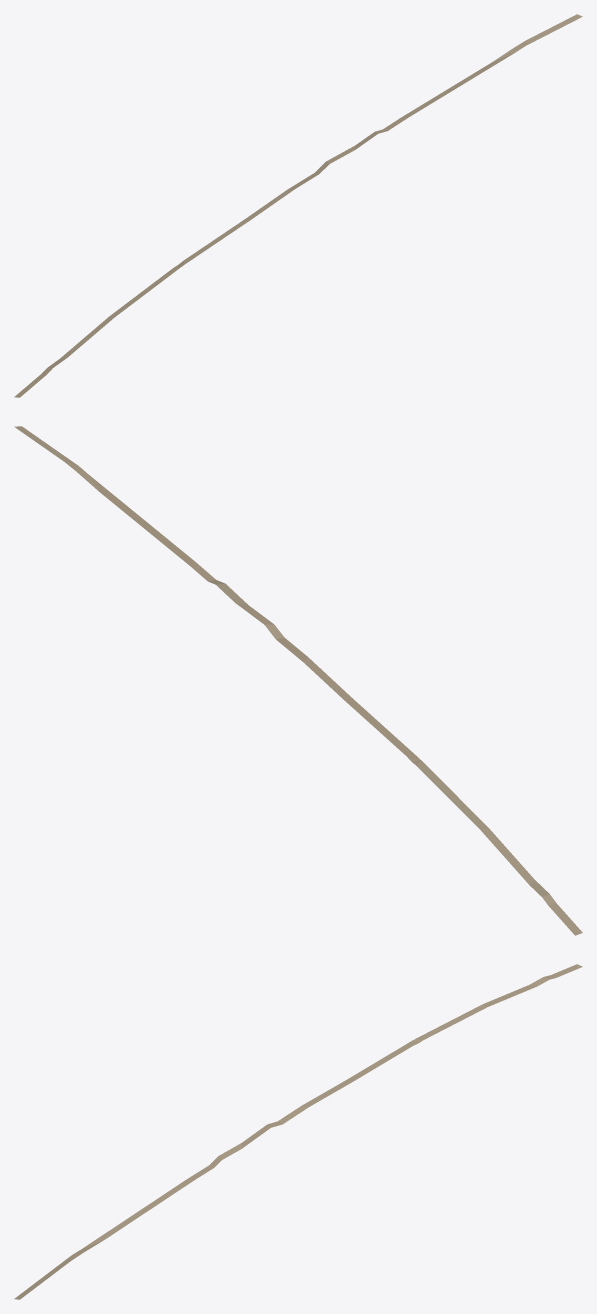
File: farm_-3_4_track.glb
The picture shows the model from 3 angles, top to bottom: view 1: azimuth 90°, elevation 25°; view 2: azimuth 150°, elevation 25°; view 3: azimuth 270°, elevation 25°; orthographic projection. The views are drawn at different scales.
Parts seen in each view (by area): view 1: geometry_0; view 2: geometry_0; view 3: geometry_0.
Part boxes in pixels (x1,y1,x2,y2): geometry_0: (14,14,582,397); geometry_0: (14,426,582,935); geometry_0: (14,964,582,1299).
Bounding box in the file's own units: 398 × 19.48 × 266.
